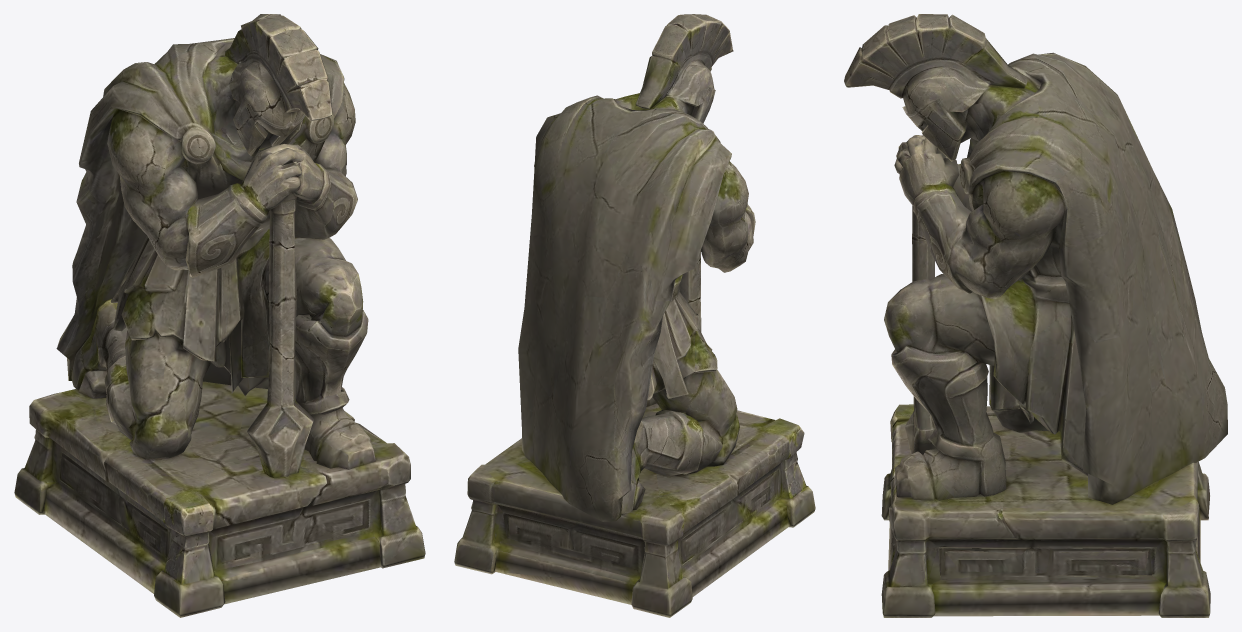
The model's file is dp_s_statue.glb.
3 renders of one model, left to right at view 1: azimuth 30°, elevation 25°; view 2: azimuth 150°, elevation 25°; view 3: azimuth 270°, elevation 25°, orthographic. The views are drawn at different scales.
Size of the model in its own units: 0.4473 by 0.9521 by 0.6109.
Materials: 1 (1 with a texture image).
